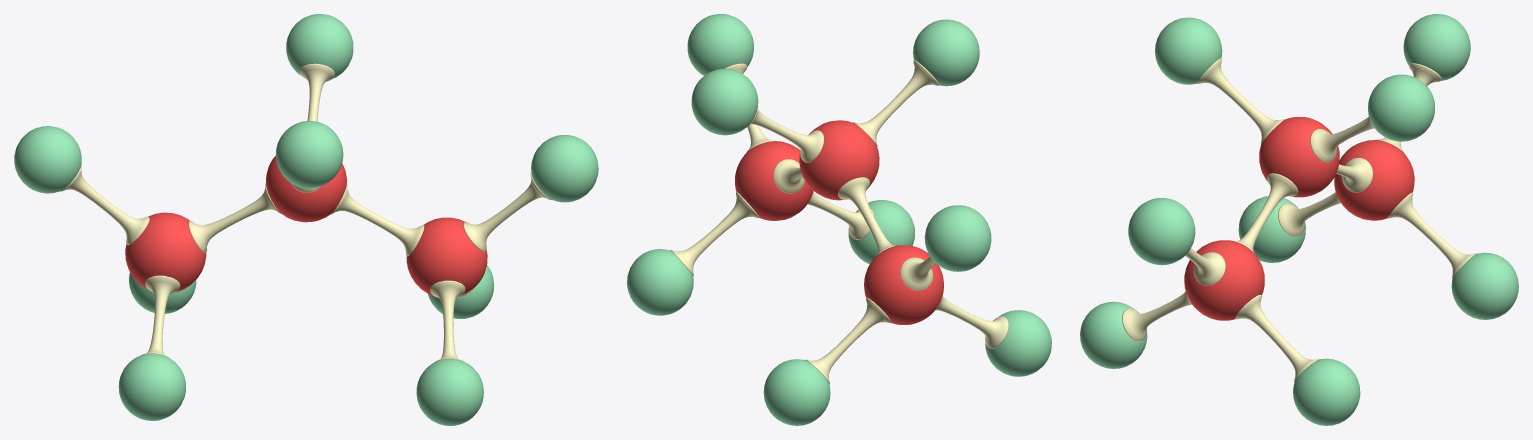
The model's file is propane.glb.
3 views of the same model, side by side, from view 1: azimuth 30°, elevation 25°; view 2: azimuth 150°, elevation 25°; view 3: azimuth 270°, elevation 25° (orthographic).
Parts seen in each view (by area): view 1: propane; view 2: propane; view 3: propane.
Part boxes in pixels (<box>): propane: <box>14,14,598,425</box>; propane: <box>627,14,1051,425</box>; propane: <box>1080,14,1518,425</box>.
Size of the model in its own units: 0.9466 by 0.6138 by 0.827.
